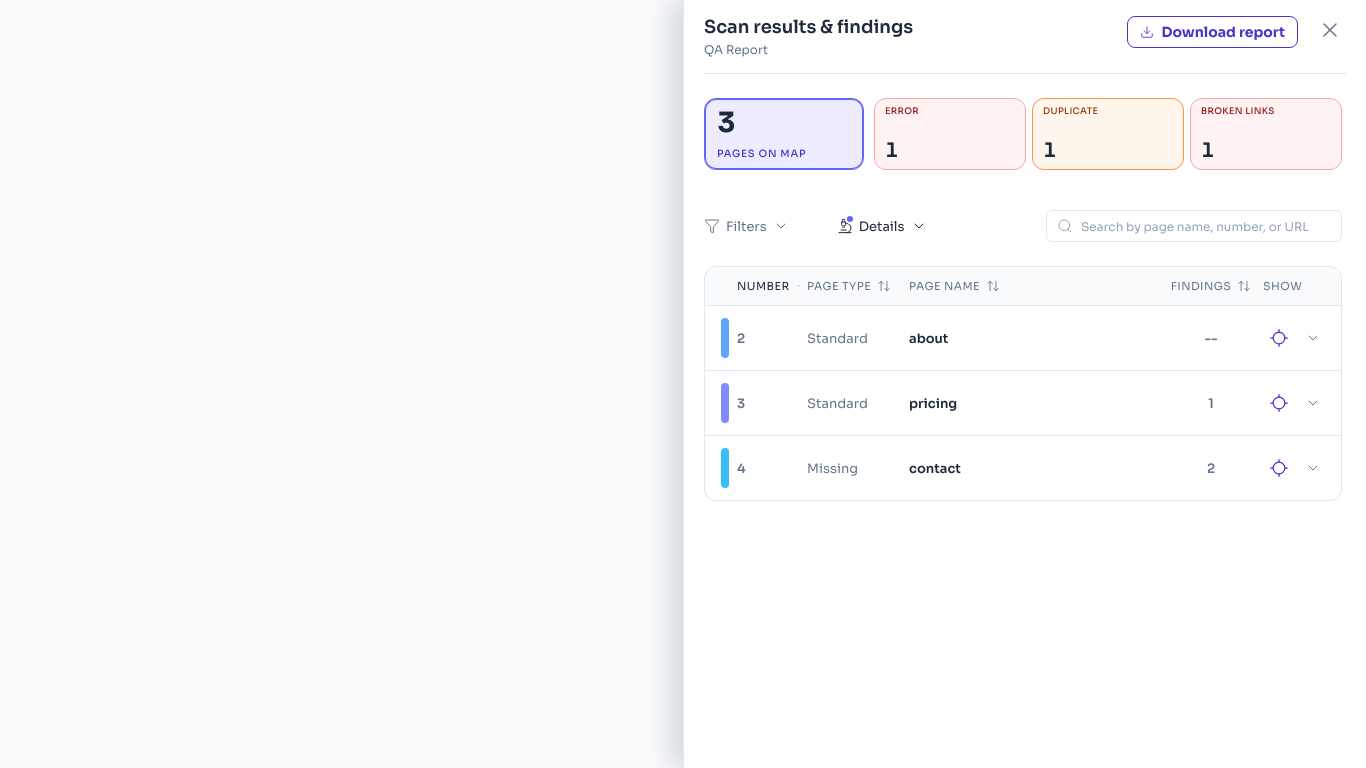
it: ReportDrawer › shows SEO metadata in expanded report details
The width and height of the screenshot is (1366, 768).
Click the button with class "report-row-main" showing "3 Standard pricing 1". click: {"x": 837, "y": 403}
box: [705, 371, 1341, 435]
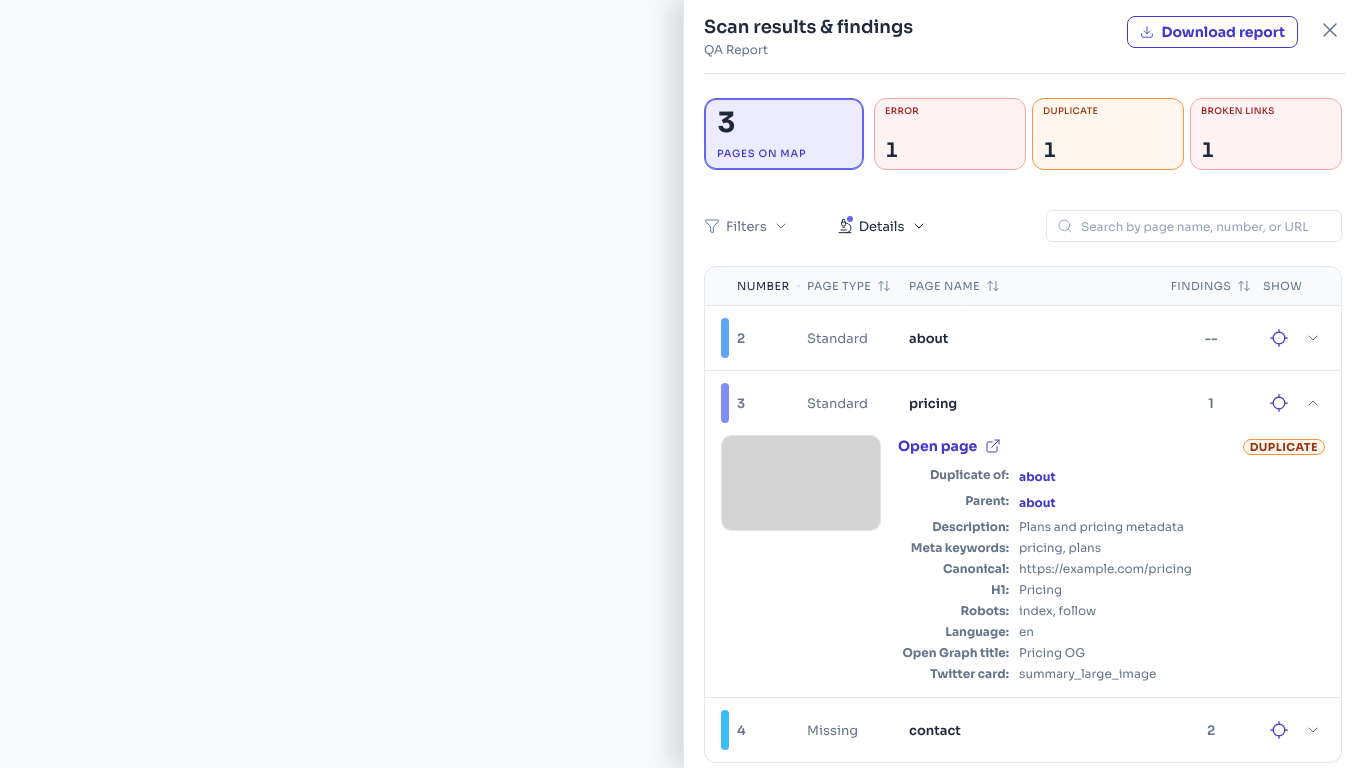
Expected: the text "Description:" is shown, [932, 519, 1009, 534]
Expected: the text "Plans and pricing metadata" is shown, [1019, 519, 1184, 534]
Expected: the text "Meta keywords:" is shown, [897, 540, 1009, 555]
